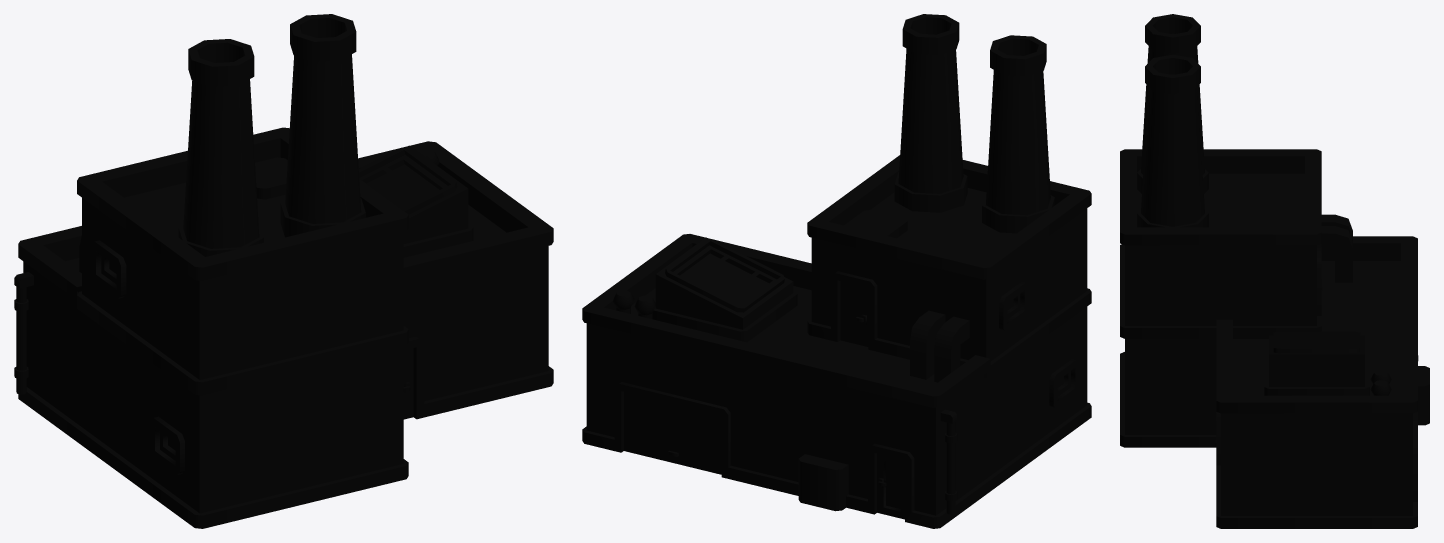
The model's file is building-e.glb.
The picture shows the model from 3 angles, left to right: view 1: azimuth 30°, elevation 25°; view 2: azimuth 150°, elevation 25°; view 3: azimuth 270°, elevation 25°; orthographic projection. The views are drawn at different scales.
Visible parts, largest first — view 1: building-e; view 2: building-e; view 3: building-e.
Part boxes in pixels (left/top/right/bottom): building-e: left=14, top=14, right=553, bottom=528; building-e: left=582, top=14, right=1091, bottom=528; building-e: left=1120, top=14, right=1429, bottom=528.
Size of the model in its own units: 1.68 by 1.65 by 1.29.
1 material, 1 textured.
